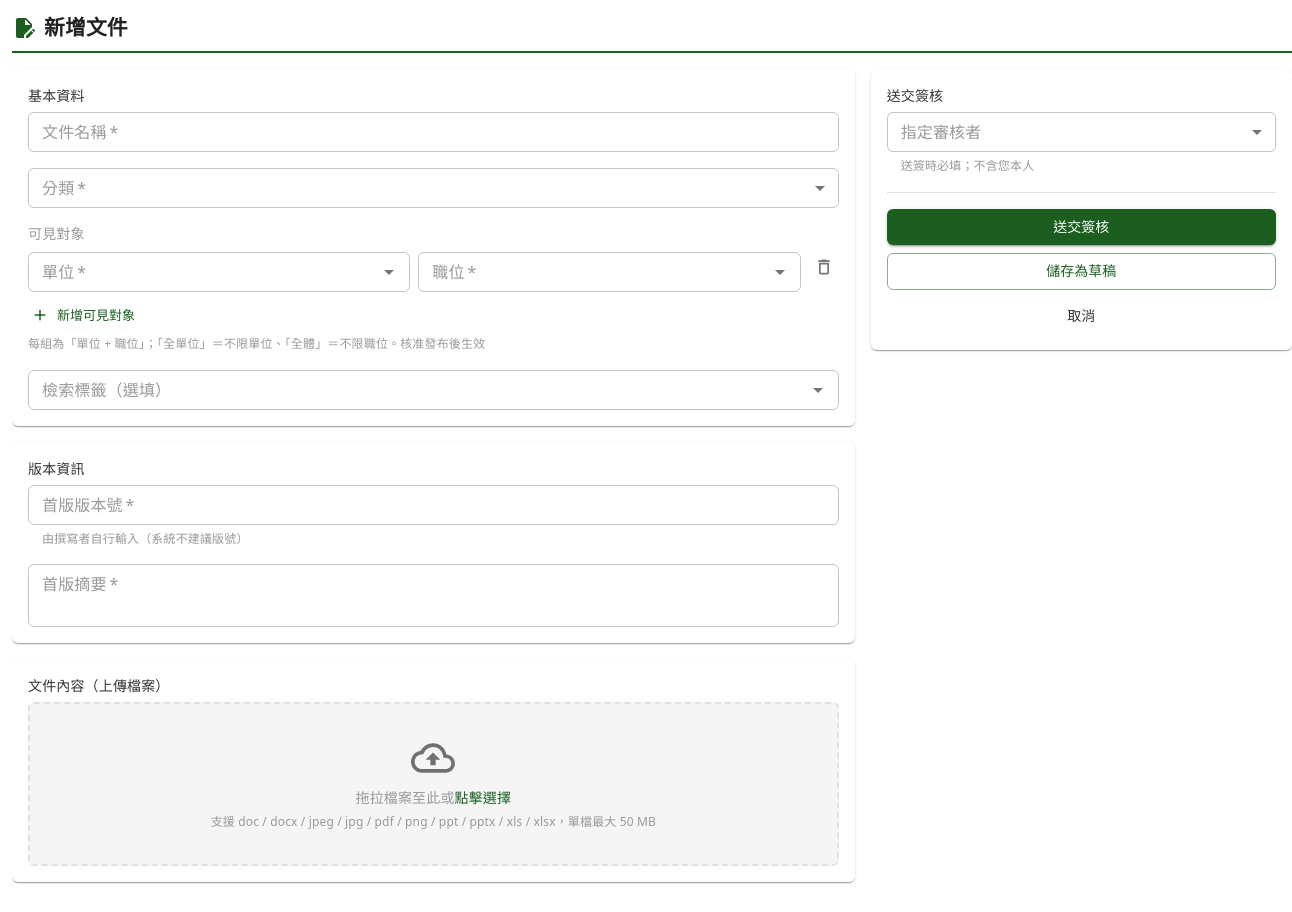
DmEditorPage 文件新增與編輯（DM08） › 新增模式：可編輯名稱；選『系統操作手冊』條件式顯示關聯作業項目
Expected: the heading "新增文件" is shown, [44,12,128,43]
Expected: the field labelled "文件名稱 *" is enabled, [28,112,839,152]
Click the dropdown named "分類" next to "分類": coordinates (433, 188) [28,168,839,208]
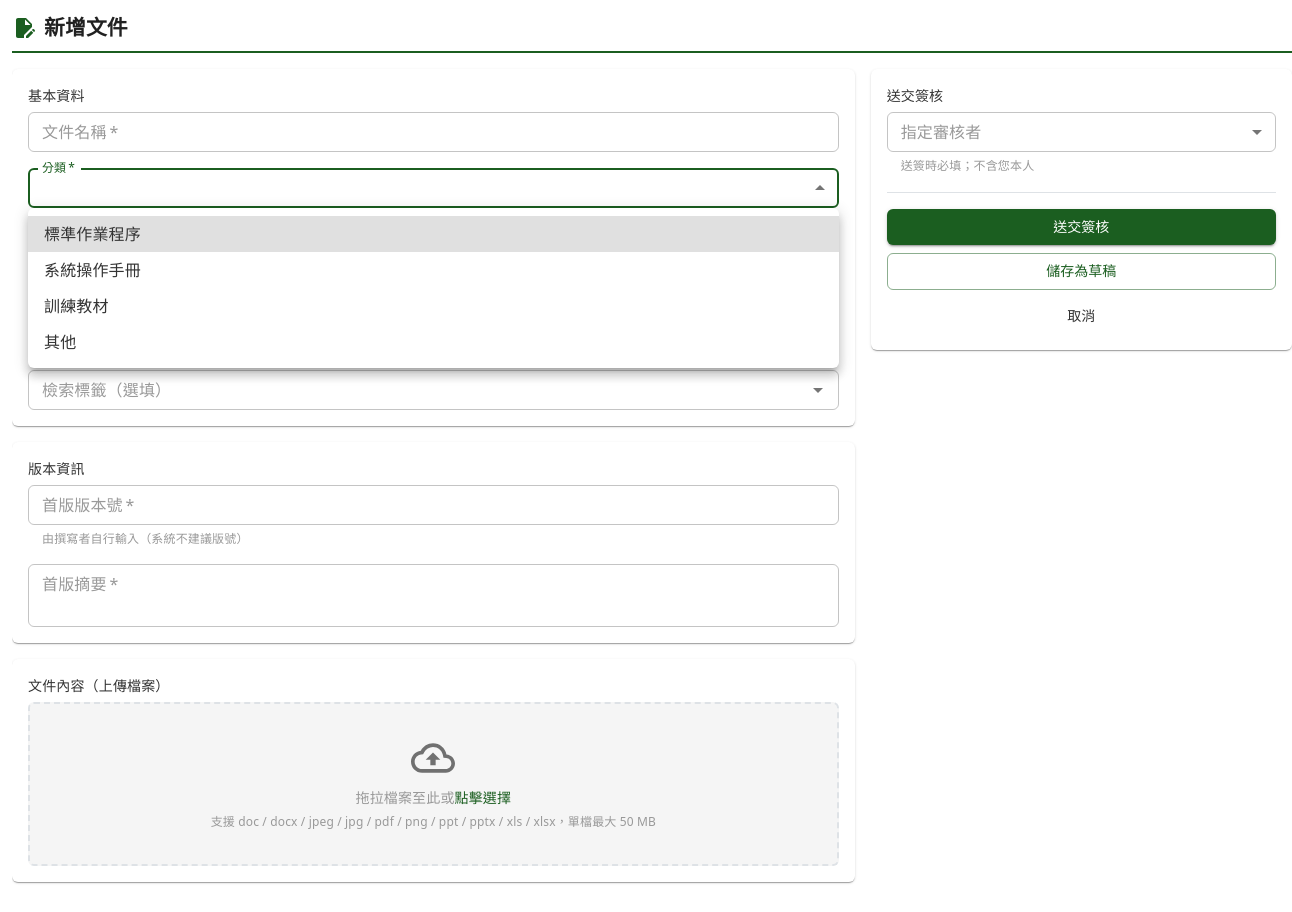
Click the option "系統操作手冊": coordinates (92, 270) [44,259,141,281]
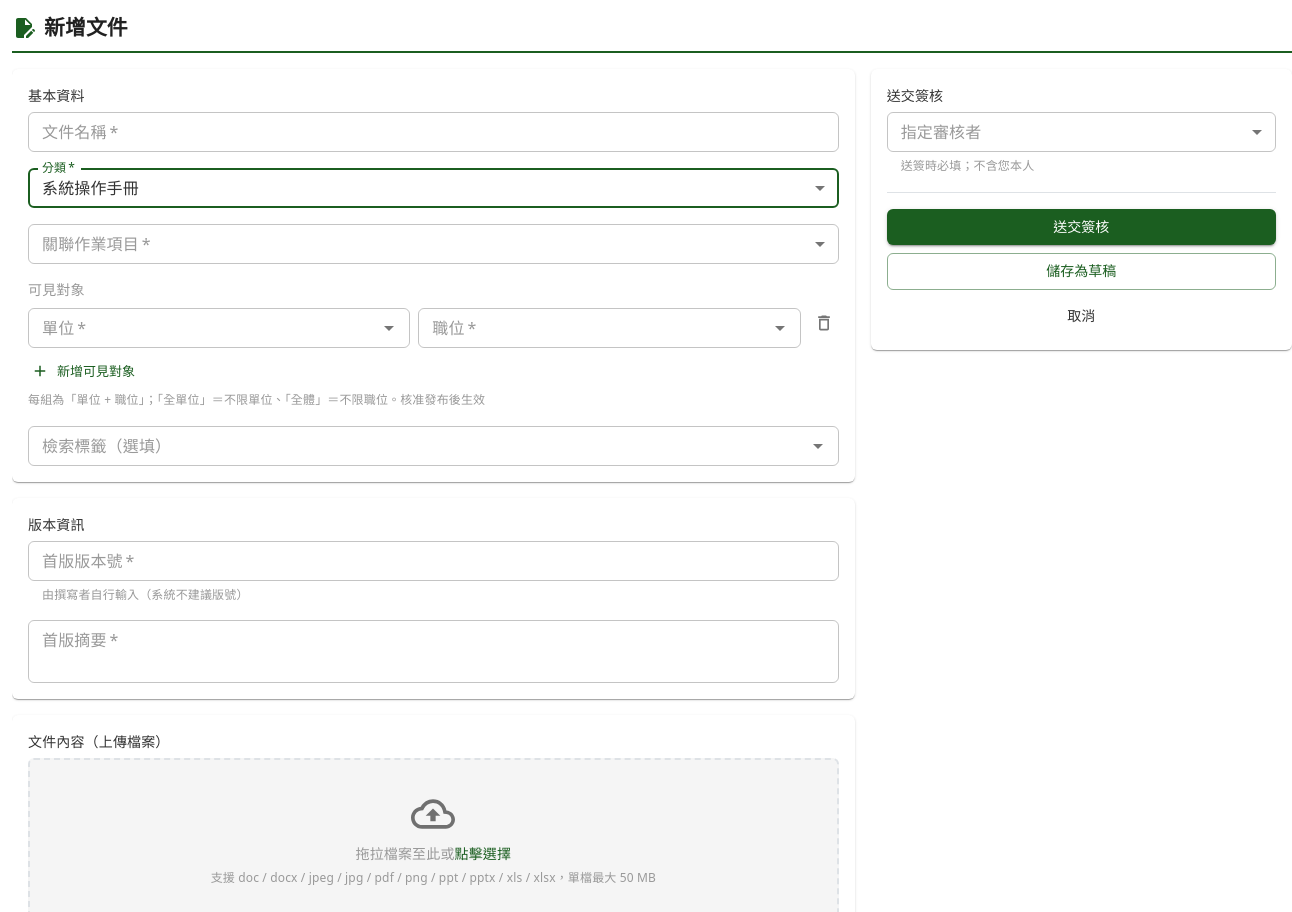
Expected: the dropdown named "關聯作業項目" next to "關聯作業項目" is shown, [28,224,839,264]
